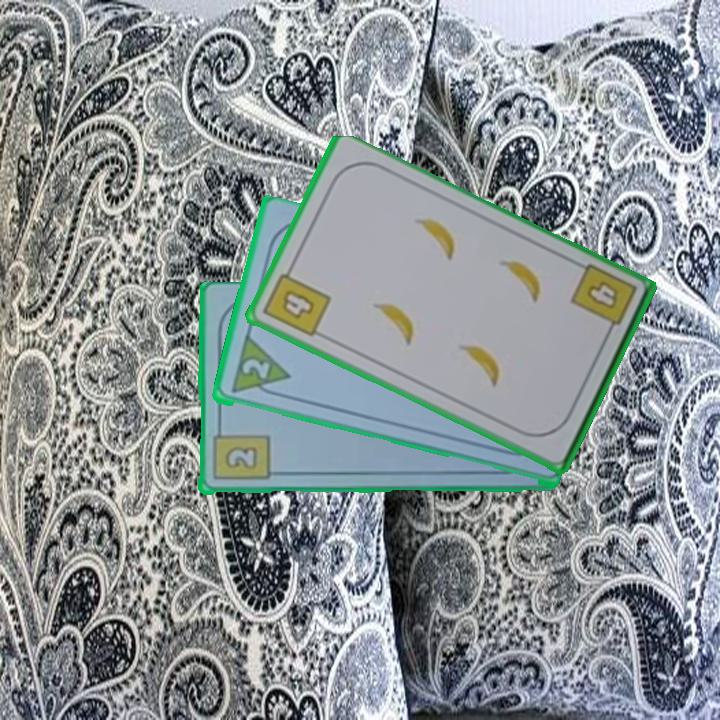2b: (209, 422, 271, 483)
2p: (238, 355, 272, 382)
4b: (259, 262, 334, 340), (569, 260, 640, 341)
